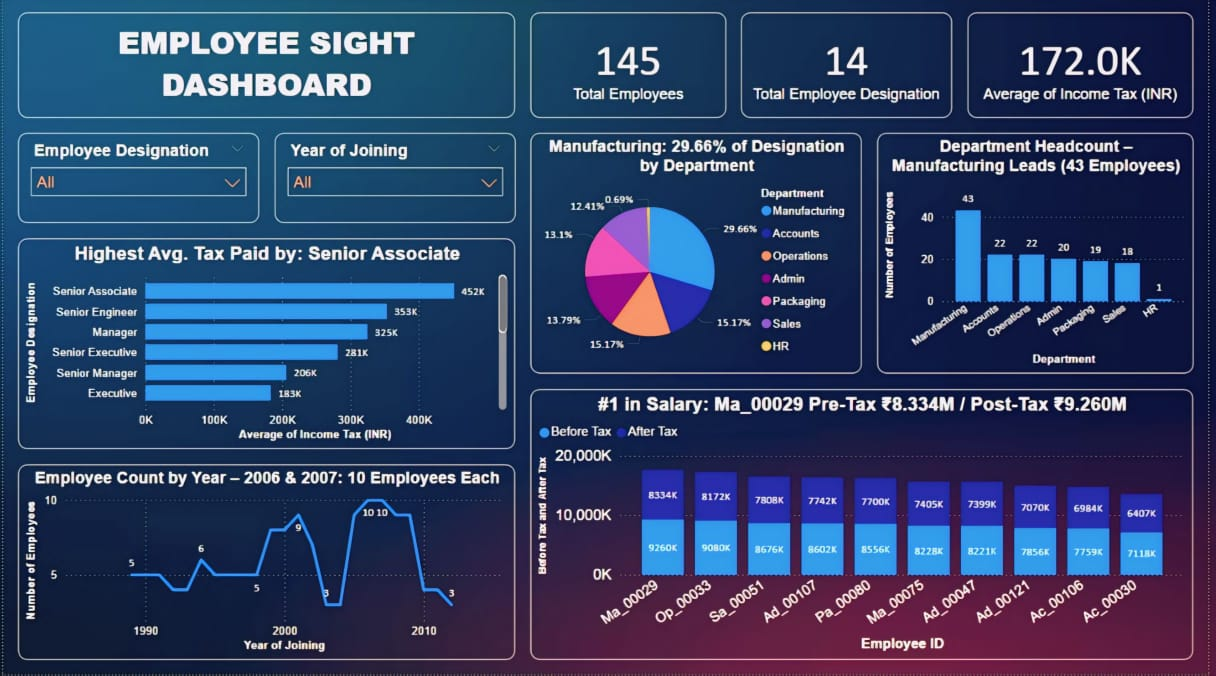

Layout of this report page (visuals, bound fields, positions):
{"tool":"powerbi","page":{"name":"Page 1","canvas":[1280,720],"ordinal":0},"visuals":[{"type":"card","fields":{"Values":["Sheet1.Employee ID"]},"box":[560,16,208,112],"z":0},{"type":"card","fields":{"Values":["Sheet1.Employee Designation"]},"box":[784,16,224,112],"z":1000},{"type":"card","fields":{"Values":["Sheet1.Income Tax (INR)"]},"box":[1024,16,240,112],"z":2000},{"type":"textbox","box":[16,16,528,112],"z":3000},{"type":"barChart","title":"Highest Avg. Tax Paid by: Senior Associate","fields":{"Y":["Sheet1.Income Tax (INR)"],"Category":["Sheet1.Employee Designation"]},"box":[16,256,528,224],"z":4000},{"type":"slicer","fields":{"Values":["Sheet1.Employee Designation"]},"box":[16,144,256,96],"z":5000},{"type":"slicer","fields":{"Values":["Sheet1.Year of Joining"]},"box":[288,144,256,96],"z":6000},{"type":"columnChart","title":"Department Headcount – Manufacturing Leads (43 Employees)","fields":{"Category":["Sheet1.Department"],"Y":["Sheet1.Employee ID"]},"box":[928,144,336,256],"z":7000},{"type":"pieChart","title":"Manufacturing: 29.66% of Designation by Department","fields":{"Y":["Sheet1.Employee Designation"],"Category":["Sheet1.Department"]},"box":[560,144,352,256],"z":8000},{"type":"lineChart","title":"Employee Count by Year – 2006 & 2007: 10 Employees Each","fields":{"Category":["Sheet1.Year of Joining"],"Y":["Sheet1.Employee ID"]},"box":[16,496,528,208],"z":9000},{"type":"columnChart","title":"#1 in Salary: Ma_00029 Pre-Tax ₹8.334M / Post-Tax ₹9.260M","fields":{"Category":["Sheet1.Employee ID"],"Y":["Sheet1.Salary before Tax (INR)","Sheet1.Salary after Tax (INR)"]},"box":[560,416,704,288],"z":10000}]}

Visuals, with their boxes in screenshot pixels (x1, y1, x2, y2), scaled from the page's 1280x720 canvas onto the 1216x676 screenshot:
card - Sheet1.Employee ID: BBox(532, 15, 730, 120)
card - Sheet1.Employee Designation: BBox(745, 15, 958, 120)
card - Sheet1.Income Tax (INR): BBox(973, 15, 1201, 120)
textbox: BBox(15, 15, 517, 120)
"Highest Avg. Tax Paid by: Senior Associate" barChart: BBox(15, 240, 517, 451)
slicer - Sheet1.Employee Designation: BBox(15, 135, 258, 225)
slicer - Sheet1.Year of Joining: BBox(274, 135, 517, 225)
"Department Headcount – Manufacturing Leads (43 Employees)" columnChart: BBox(882, 135, 1201, 376)
"Manufacturing: 29.66% of Designation by Department" pieChart: BBox(532, 135, 866, 376)
"Employee Count by Year – 2006 & 2007: 10 Employees Each" lineChart: BBox(15, 466, 517, 661)
"#1 in Salary: Ma_00029 Pre-Tax ₹8.334M / Post-Tax ₹9.260M" columnChart: BBox(532, 391, 1201, 661)
